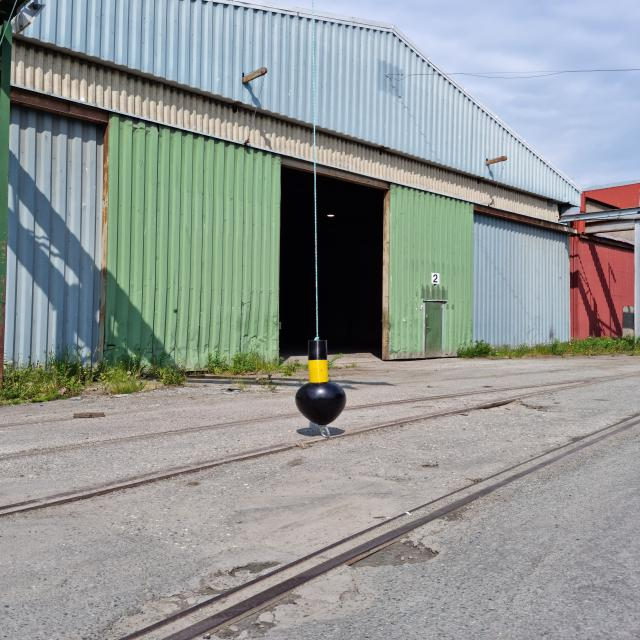east: (295, 340, 346, 425)
